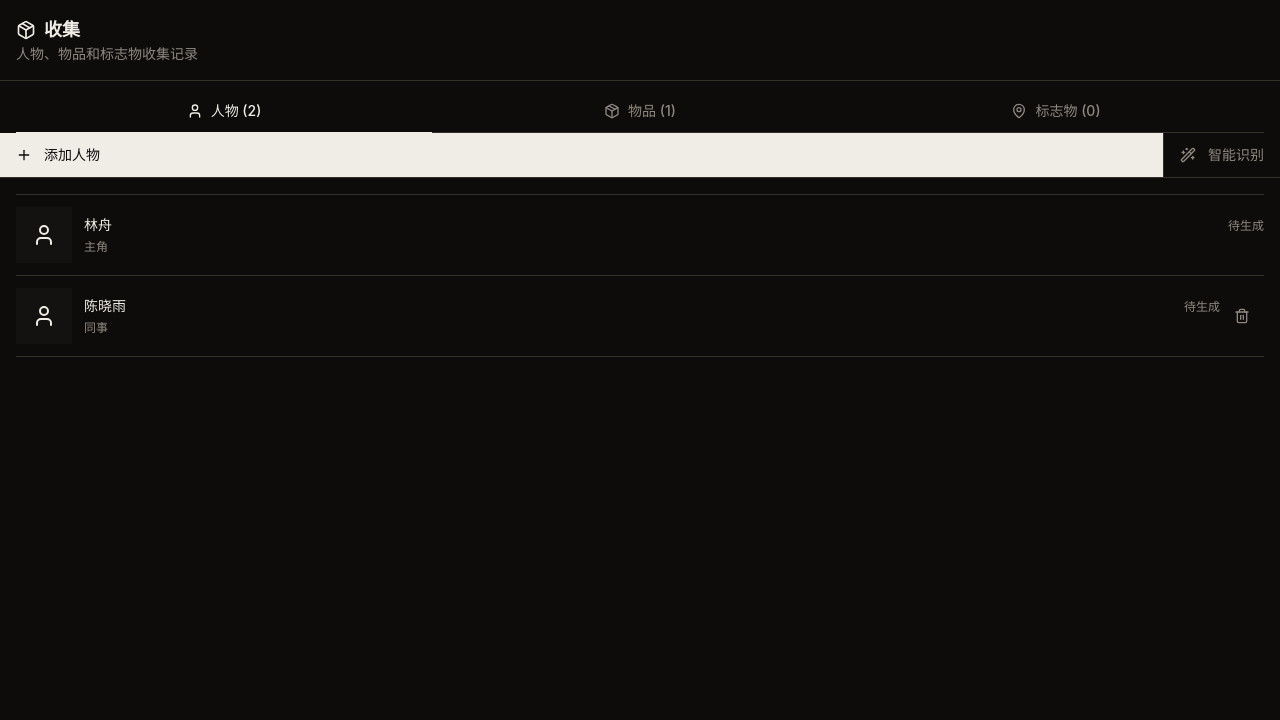
it: CollectionPanel action contracts › blocks the name A%20B because it cannot round-trip through deletion routes
Click the button "添加人物" at (72, 154), box [0, 133, 1163, 177]
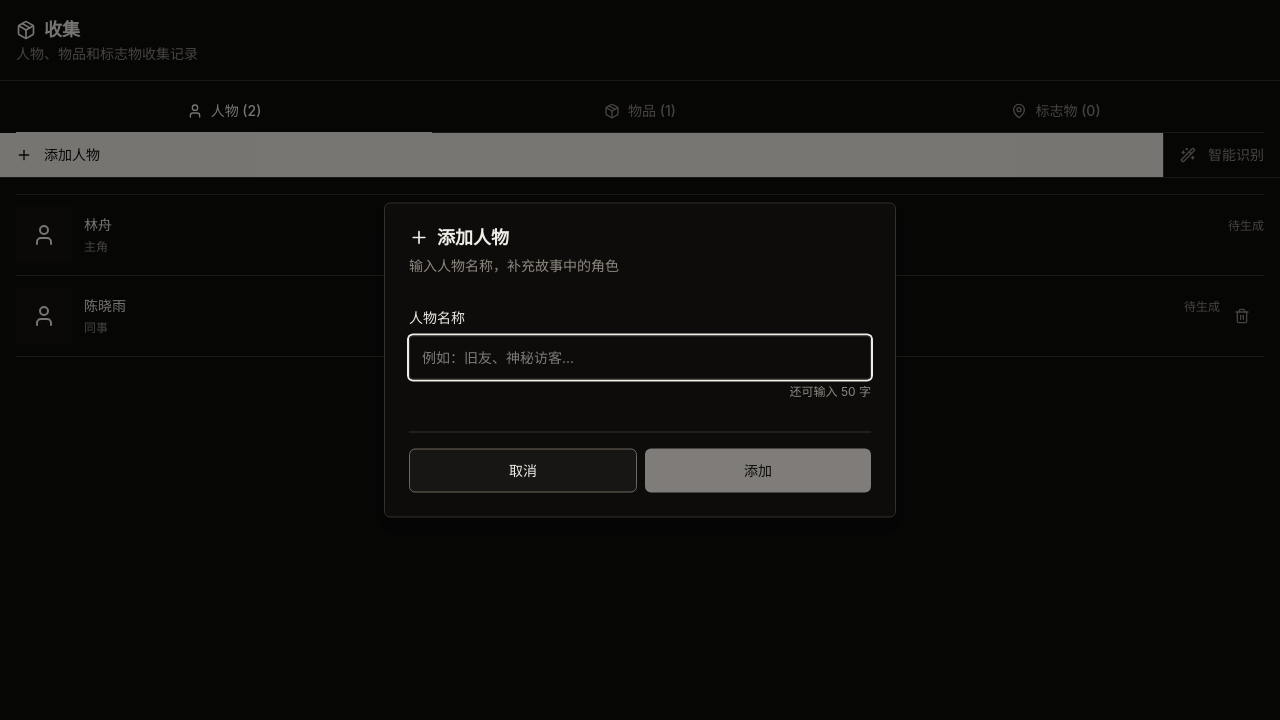
Type "A%20B" into the field labelled "人物名称" at (640, 358), box [409, 336, 871, 380]
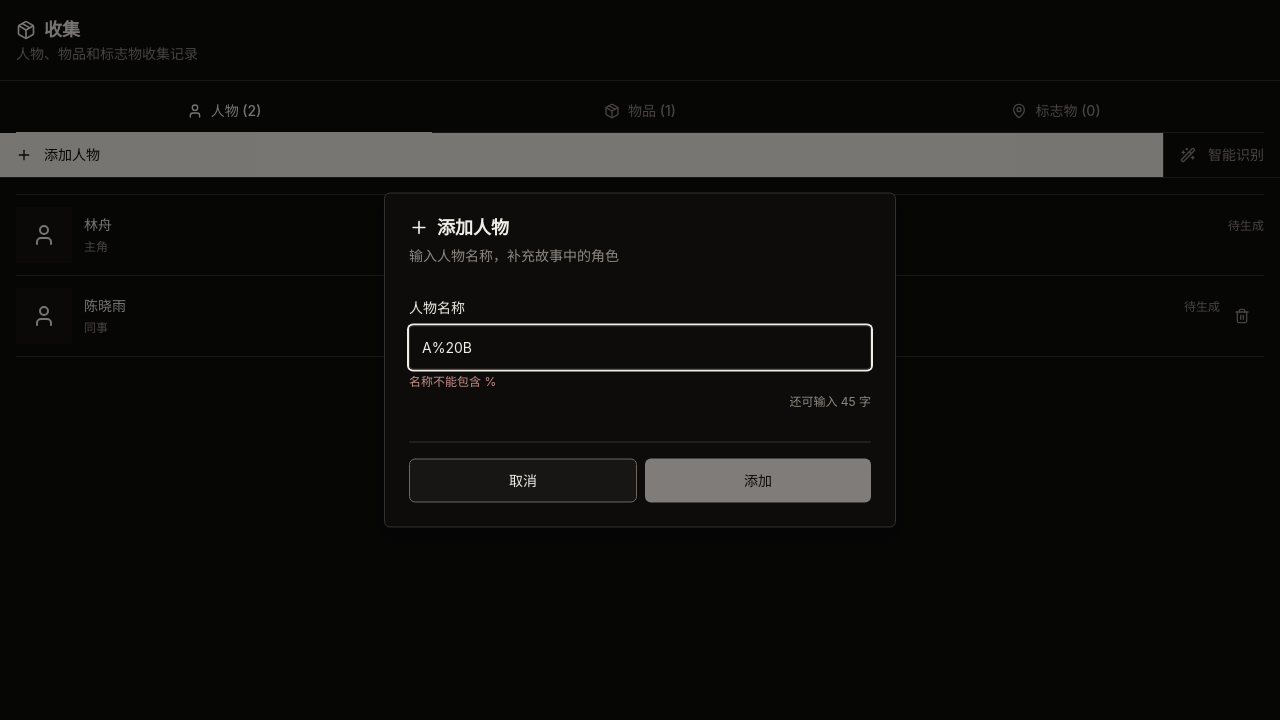
Now the button "添加" is disabled, box [645, 458, 871, 502]
Now the text "名称不能包含 %" is shown, box [409, 374, 496, 388]
